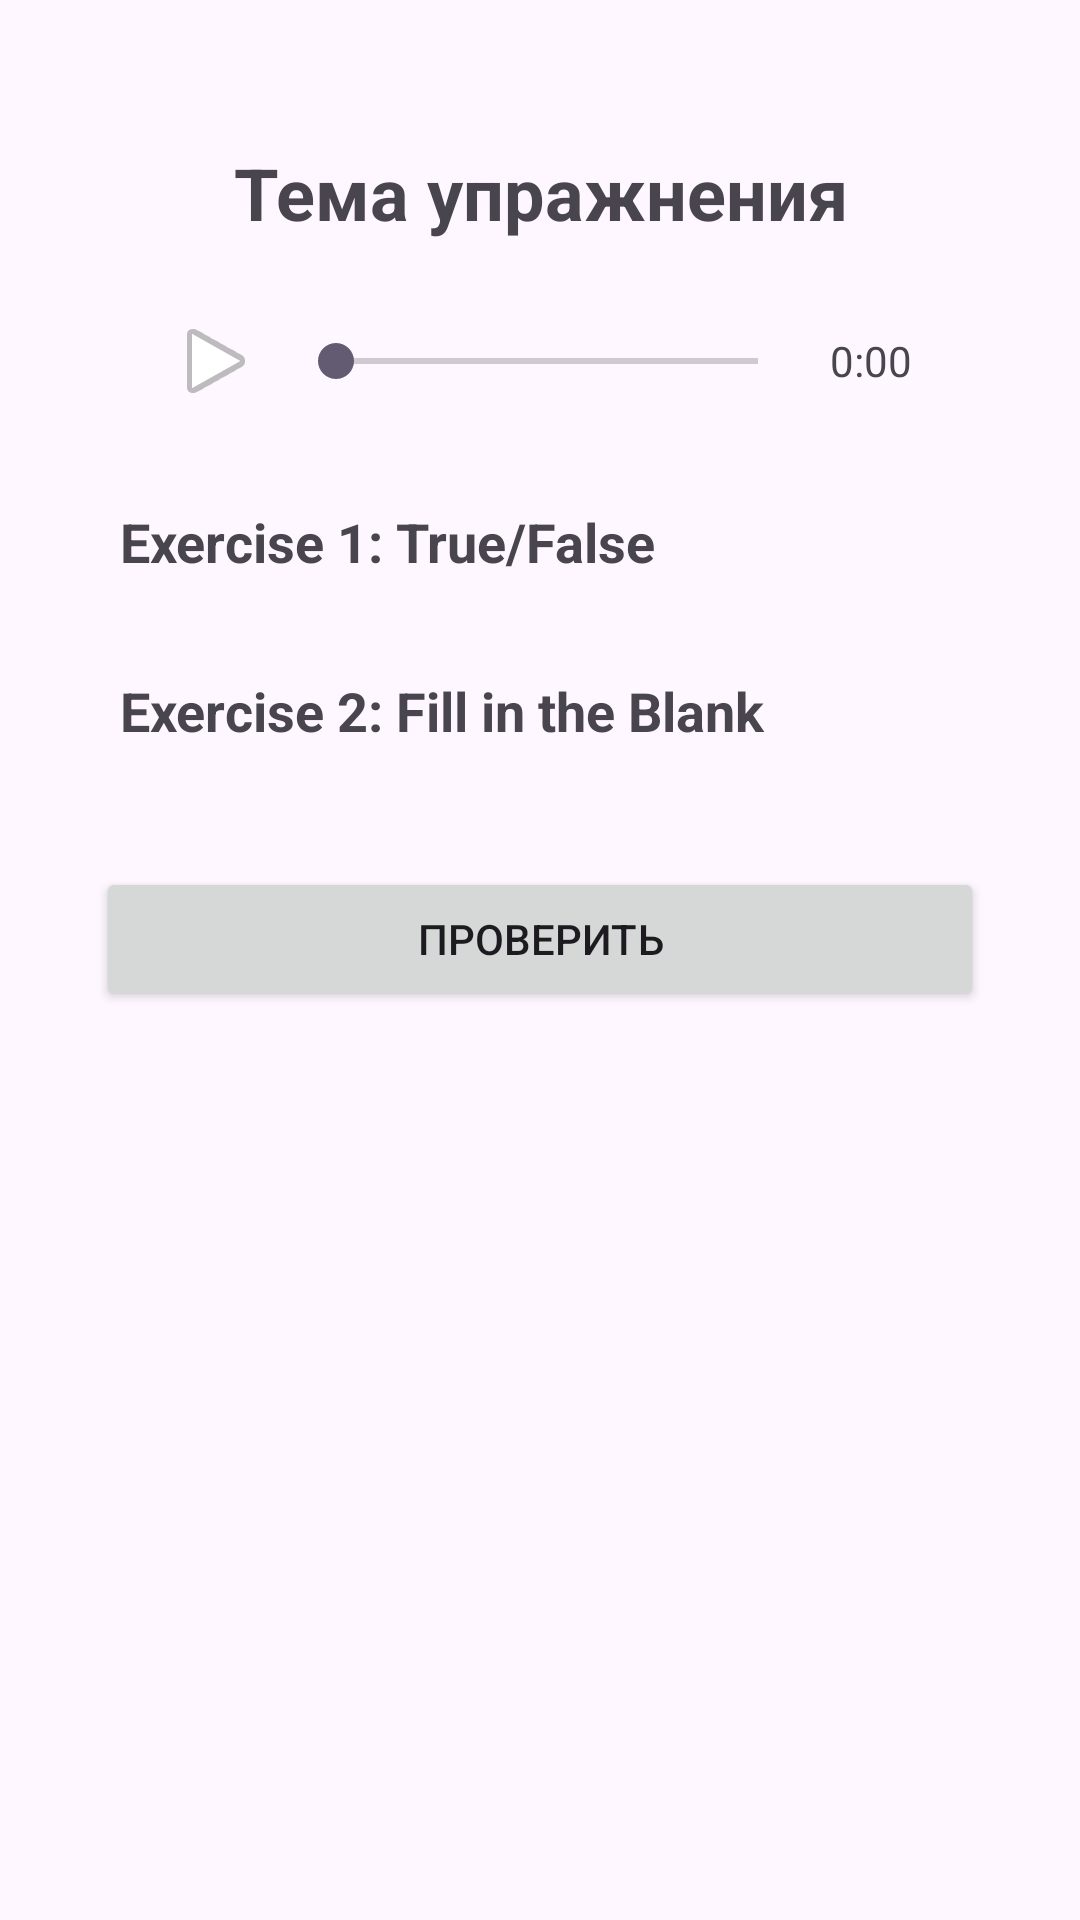

Where icons sit on this 1080x1920 app screen, as (x1, y1, x2, y2):
Play audio: (187, 329, 245, 393)
